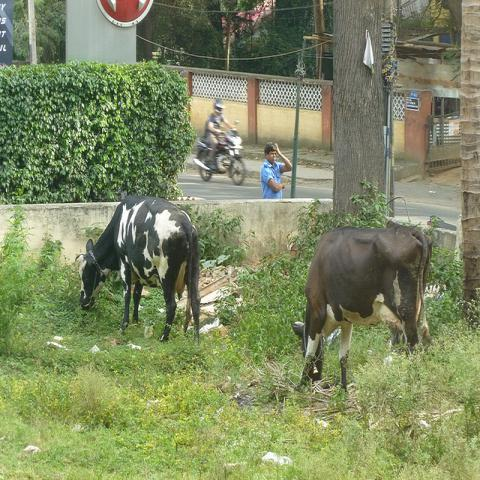motorcycle: (193, 118, 246, 186)
